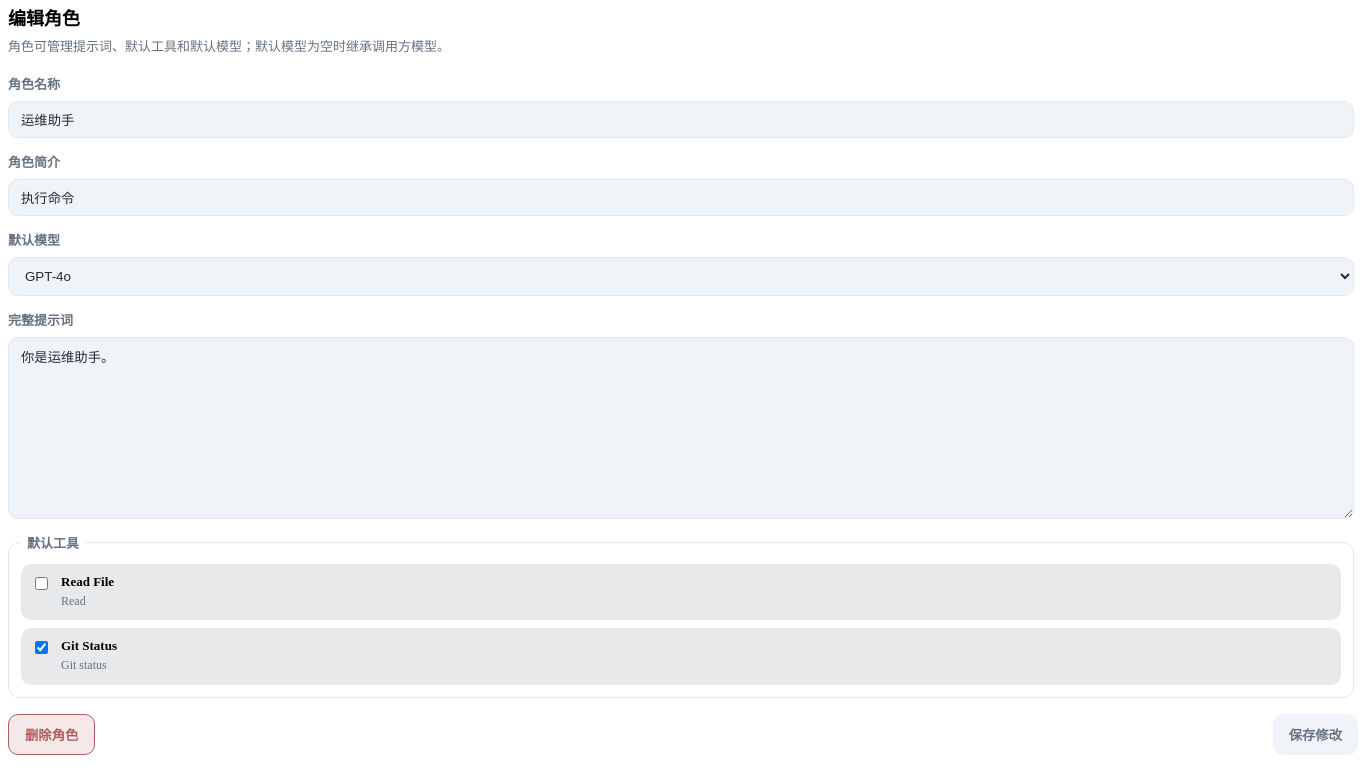
Test: RolesPanel › shows the selected default model and enables save when it changes
Expected: the button "保存修改" is disabled, [1273,714,1358,755]
Select "DeepSeek V4 Flash" in the dropdown labelled "默认模型": [681, 277] box [8,257,1354,296]
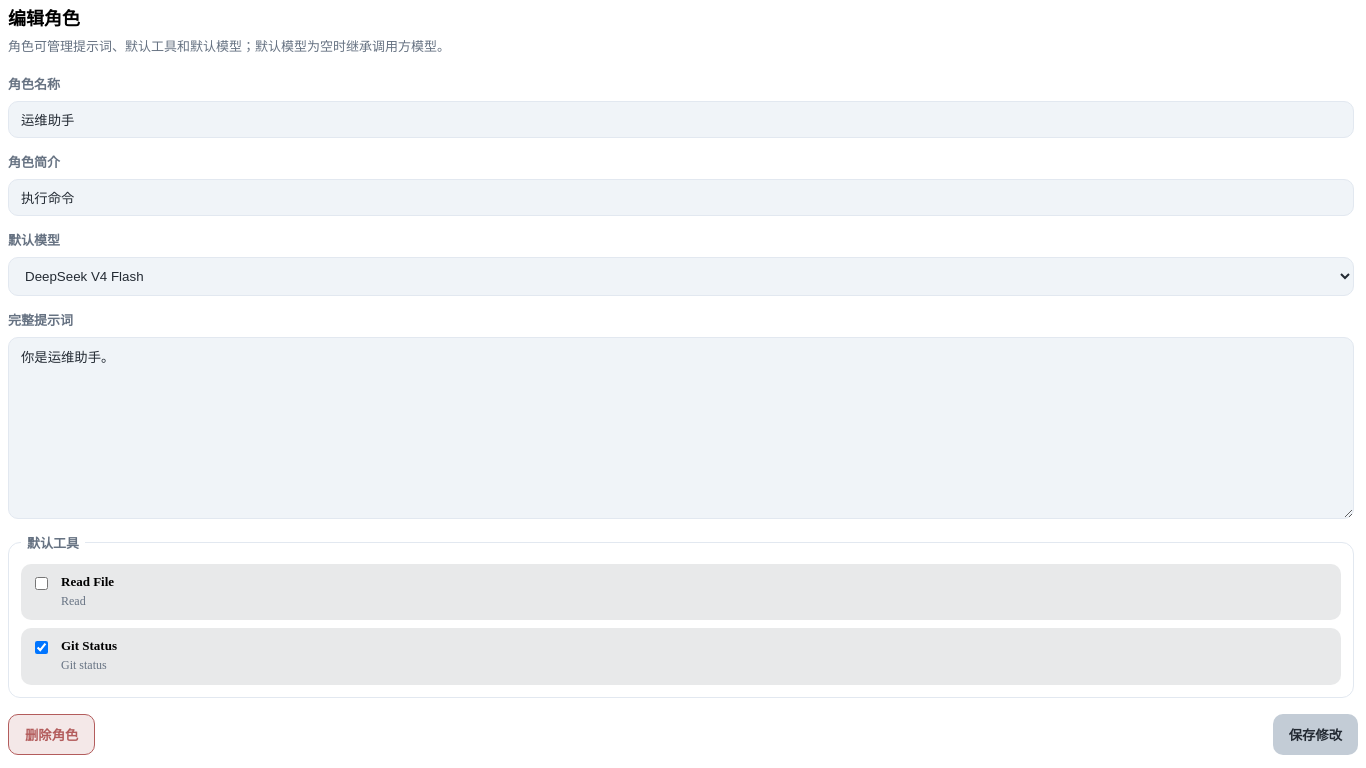
Result: the button "保存修改" is enabled at [1273,714,1358,755]
